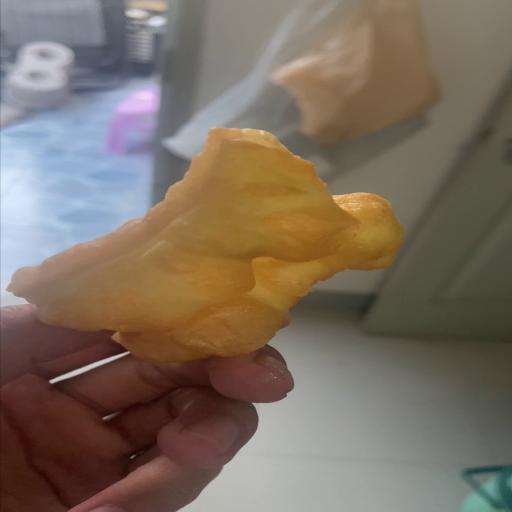street_golden_good: (7, 129, 399, 362)
